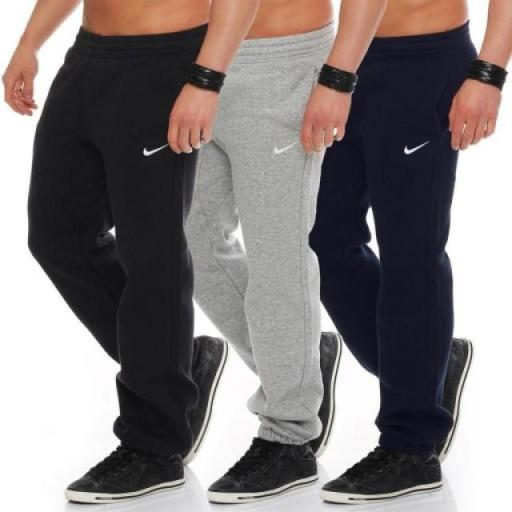Nike: (267, 137, 300, 154)
